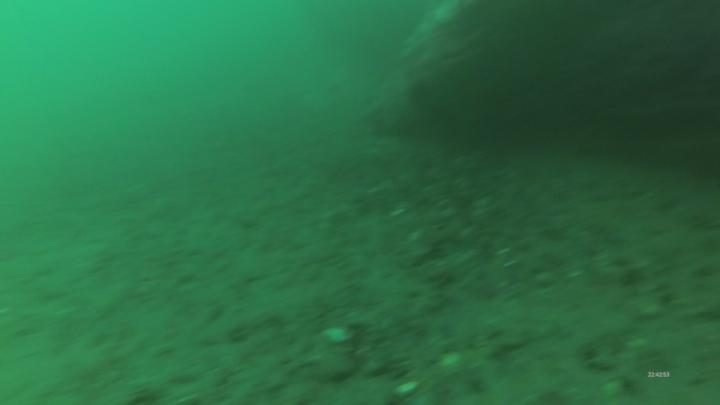echinus: (404, 78, 437, 112)
